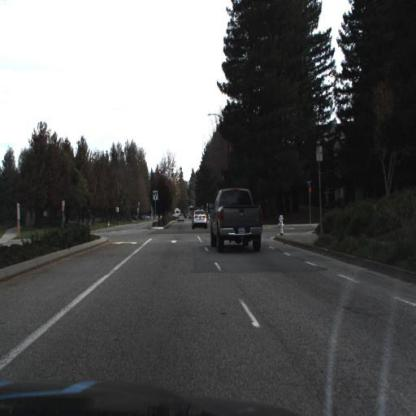car: (210, 187, 267, 253), (192, 207, 210, 232)
